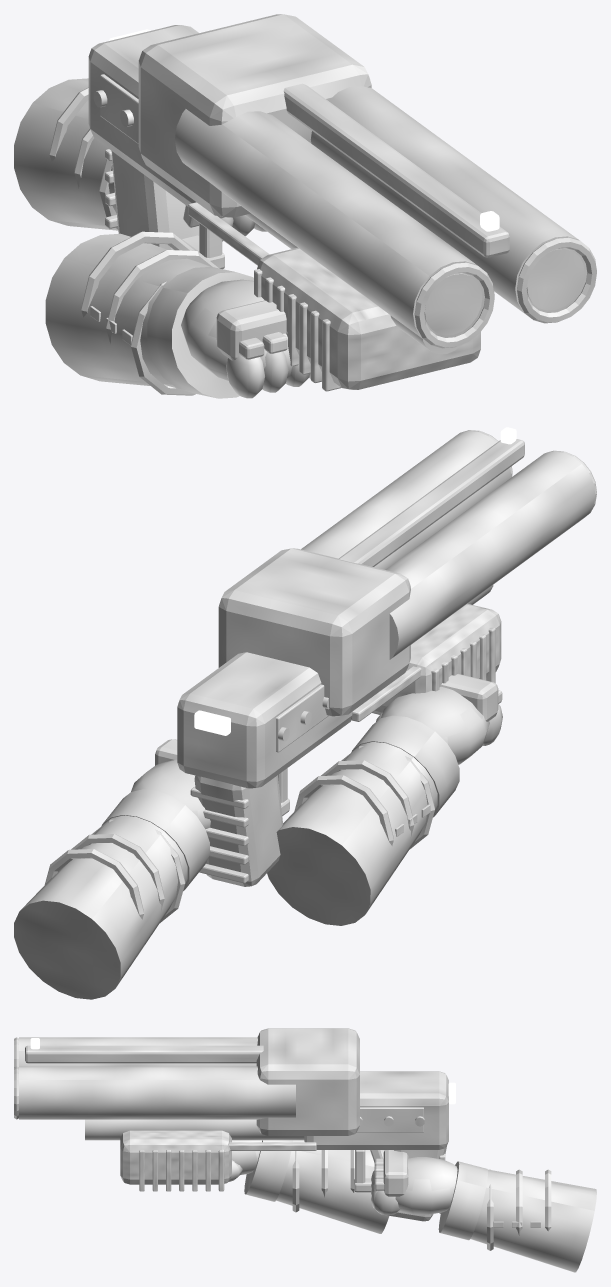
Rendered from shotgun.glb.
The picture shows the model from 3 angles, top to bottom: view 1: azimuth 30°, elevation 25°; view 2: azimuth 150°, elevation 25°; view 3: azimuth 270°, elevation 25°; orthographic projection. The views are drawn at different scales.
Parts seen in each view (by area): view 1: weapon, pump; view 2: weapon, pump; view 3: weapon, pump.
Part boxes in pixels (bbox=[...]): weapon: bbox=[14, 14, 596, 398]; pump: bbox=[188, 202, 480, 391]; weapon: bbox=[14, 427, 596, 999]; pump: bbox=[351, 603, 501, 721]; weapon: bbox=[14, 1028, 596, 1272]; pump: bbox=[120, 1130, 316, 1191].
Bounding box in the file's own units: 0.43 × 0.5657 × 1.41.
8 materials, 8 textured.
